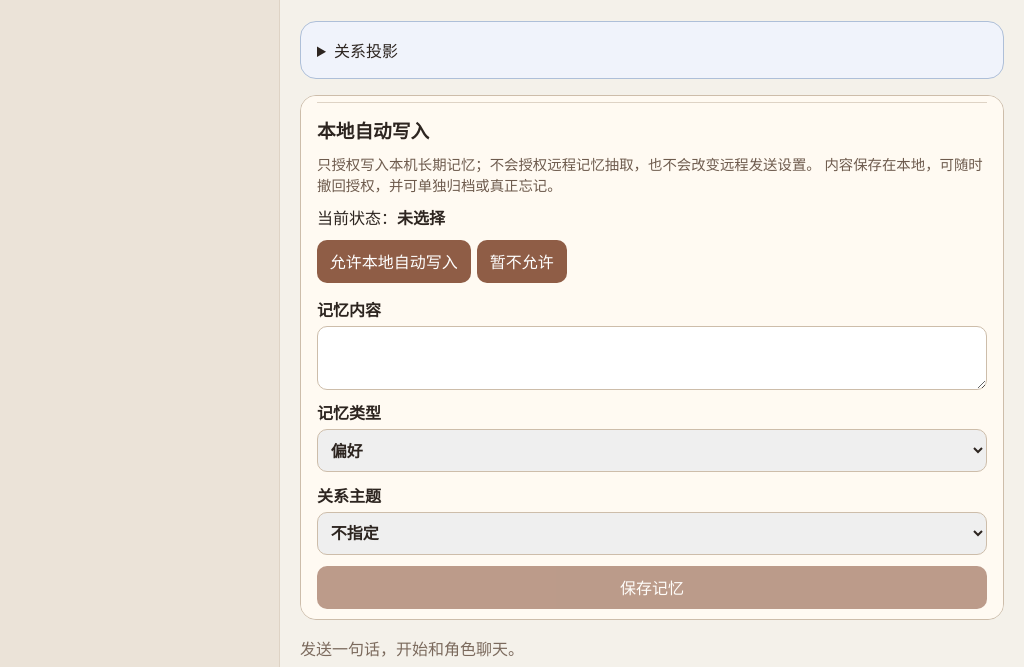
Test case: App › shows memory panel and creates a manual memory without blocking chat setup
This screenshot has width=1024, height=667.
(page scrolled)
Type "用户偏好中文回复。" into the text box labelled "记忆内容" at (652, 358), box [317,326,987,390]
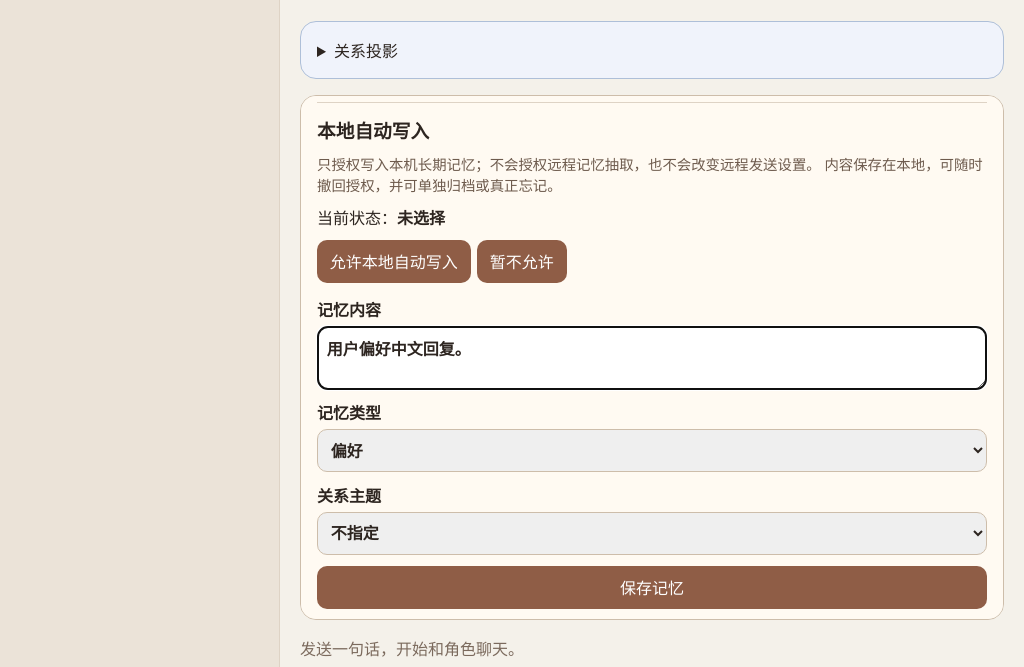
Click the button "保存记忆" at (652, 587), box [317,566,987,609]
(page scrolled)
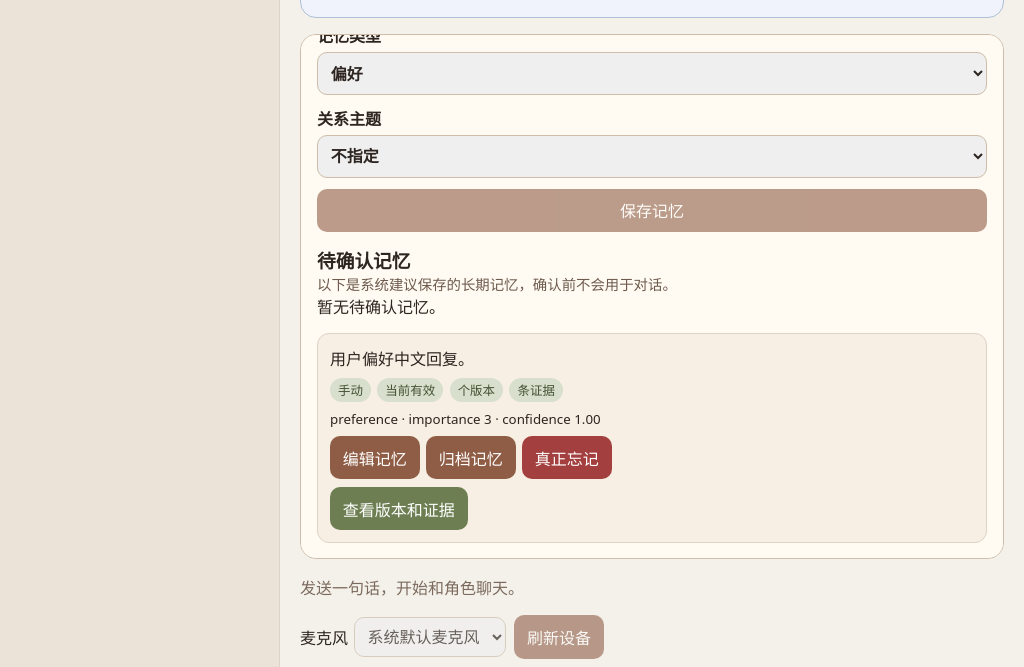
Now the text "用户偏好中文回复。" is shown, box [330,348,474,370]
